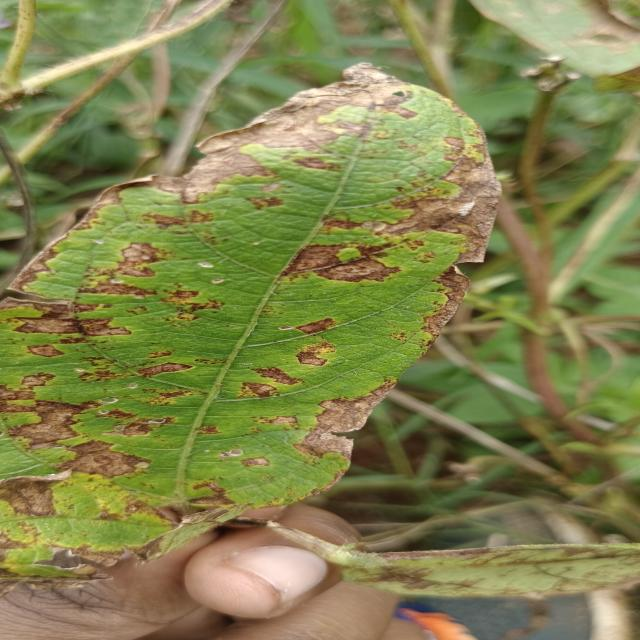Black gram_leaf spot: (0, 55, 540, 585)
